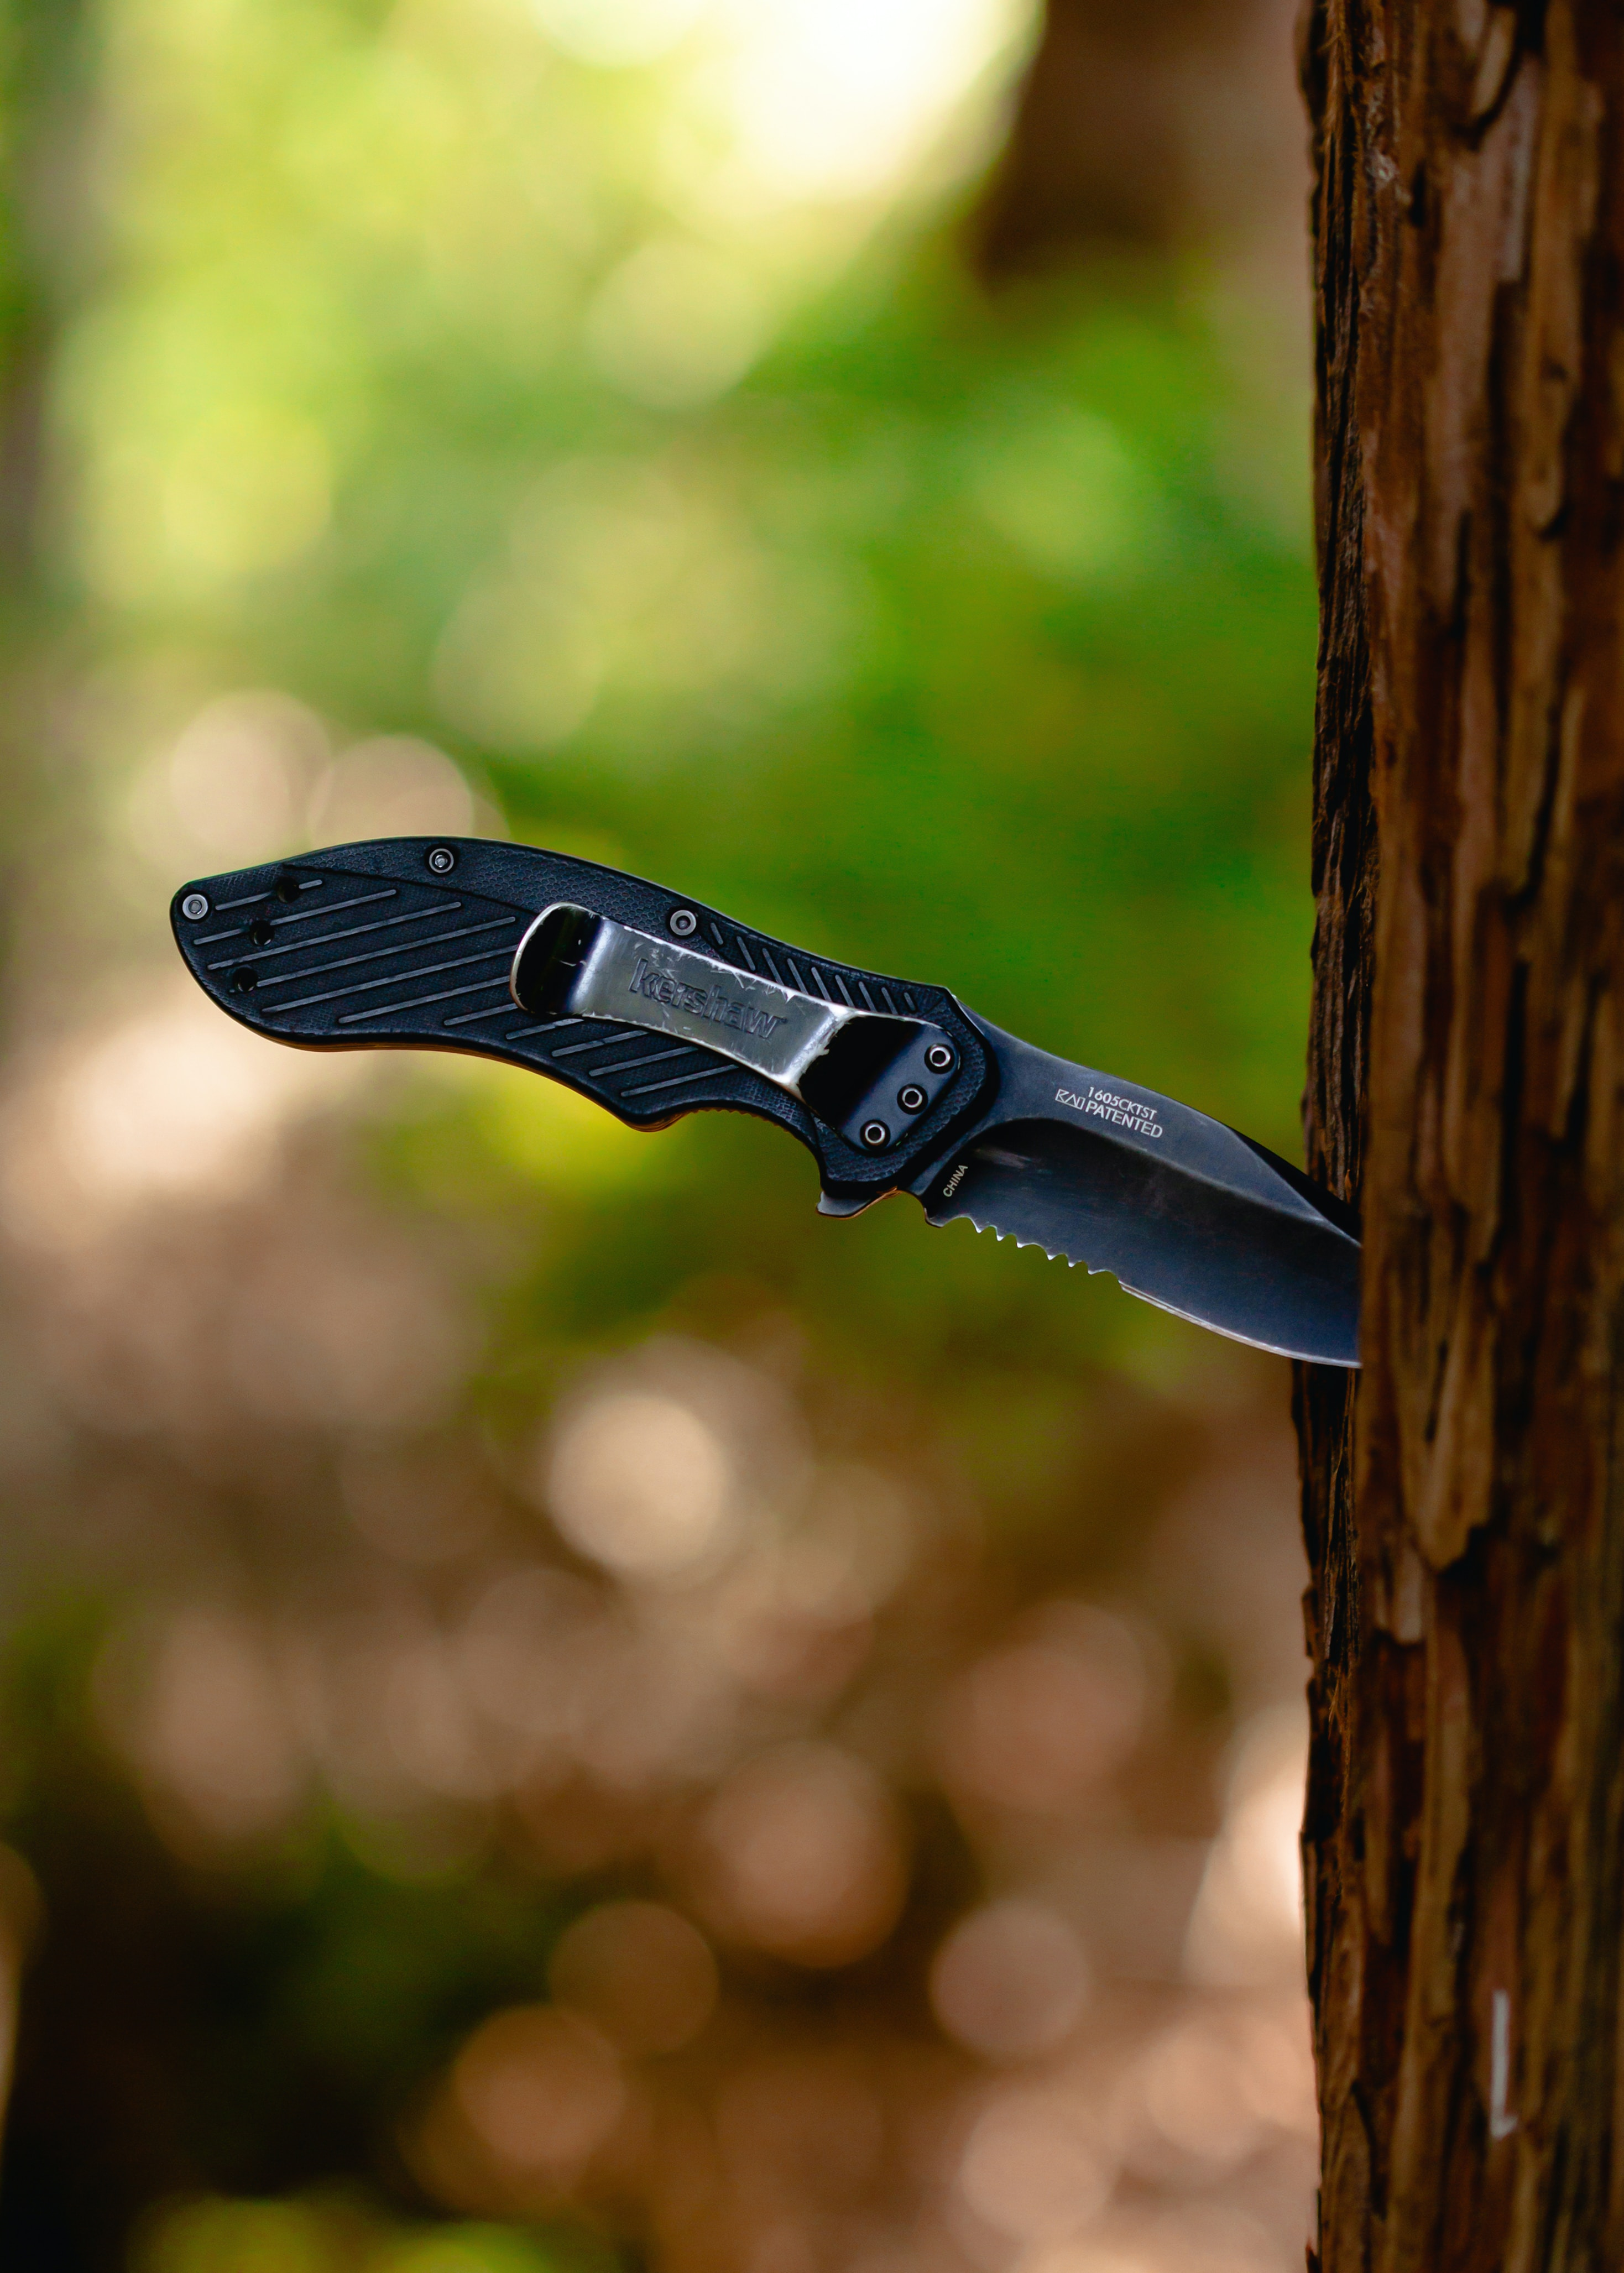knife: (151, 815, 1422, 1395)
